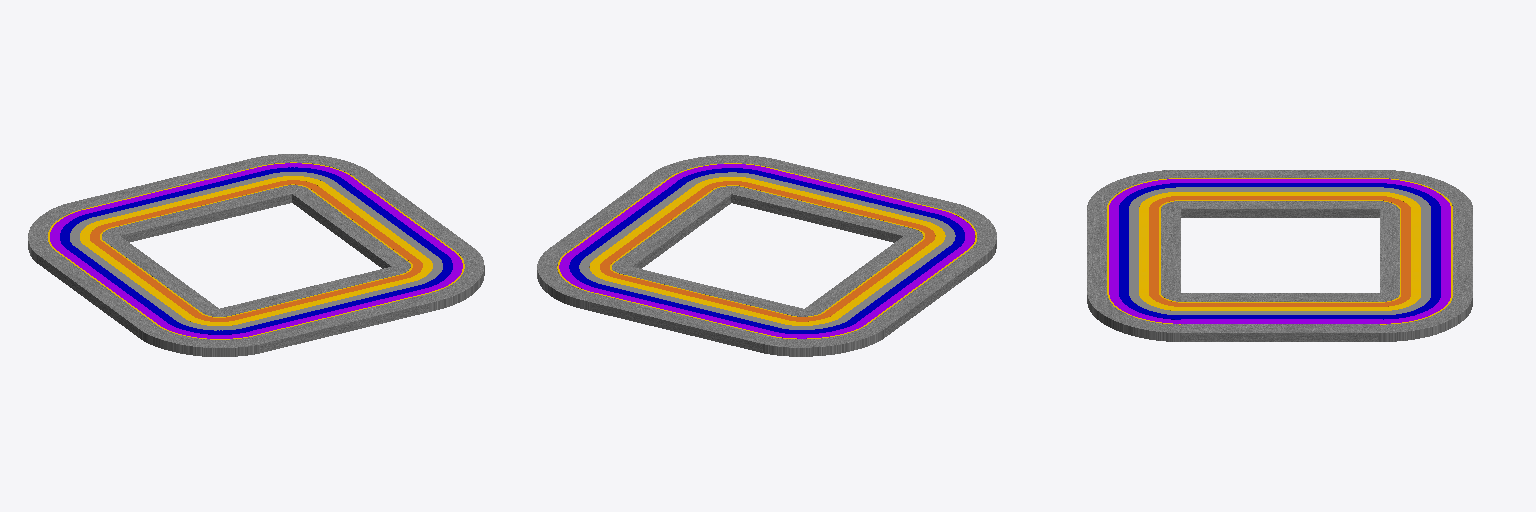
3 views of the same model, side by side, from view 1: azimuth 30°, elevation 25°; view 2: azimuth 150°, elevation 25°; view 3: azimuth 270°, elevation 25° (orthographic).
Parts seen in each view (by area): view 1: b3, Banqueta, 5d, 4d, 3b, 2b, 1b, 004, Box014; view 2: b3, Banqueta, 5d, 4d, 3b, 2b, 1b, 004, Box014; view 3: b3, Banqueta, 5d, 4d, 3b, 2b, 1b, 004, Box014.
Part boxes in pixels (left/top/right/bottom): b3: left=28, top=154, right=484, bottom=356; Banqueta: left=102, top=185, right=410, bottom=316; 5d: left=50, top=163, right=462, bottom=338; 4d: left=60, top=167, right=452, bottom=334; 3b: left=70, top=172, right=442, bottom=330; 2b: left=80, top=176, right=432, bottom=325; 1b: left=90, top=180, right=422, bottom=321; 004: left=48, top=162, right=464, bottom=339; Box014: left=100, top=184, right=412, bottom=317; b3: left=537, top=155, right=996, bottom=356; Banqueta: left=612, top=186, right=922, bottom=316; 5d: left=559, top=164, right=974, bottom=338; 4d: left=569, top=168, right=964, bottom=333; 3b: left=579, top=172, right=955, bottom=329; 2b: left=589, top=177, right=945, bottom=325; 1b: left=600, top=181, right=935, bottom=321; 004: left=557, top=163, right=976, bottom=338; Box014: left=610, top=185, right=924, bottom=316; b3: left=1087, top=170, right=1472, bottom=341; Banqueta: left=1161, top=201, right=1399, bottom=301; 5d: left=1109, top=179, right=1450, bottom=323; 4d: left=1119, top=183, right=1440, bottom=319; 3b: left=1129, top=187, right=1430, bottom=314; 2b: left=1139, top=192, right=1420, bottom=310; 1b: left=1149, top=196, right=1410, bottom=306; 004: left=1107, top=178, right=1452, bottom=324; Box014: left=1159, top=200, right=1400, bottom=302.
Size of the model in its own units: 38.83 by 1.03 by 38.79.
6 materials, 5 textured.